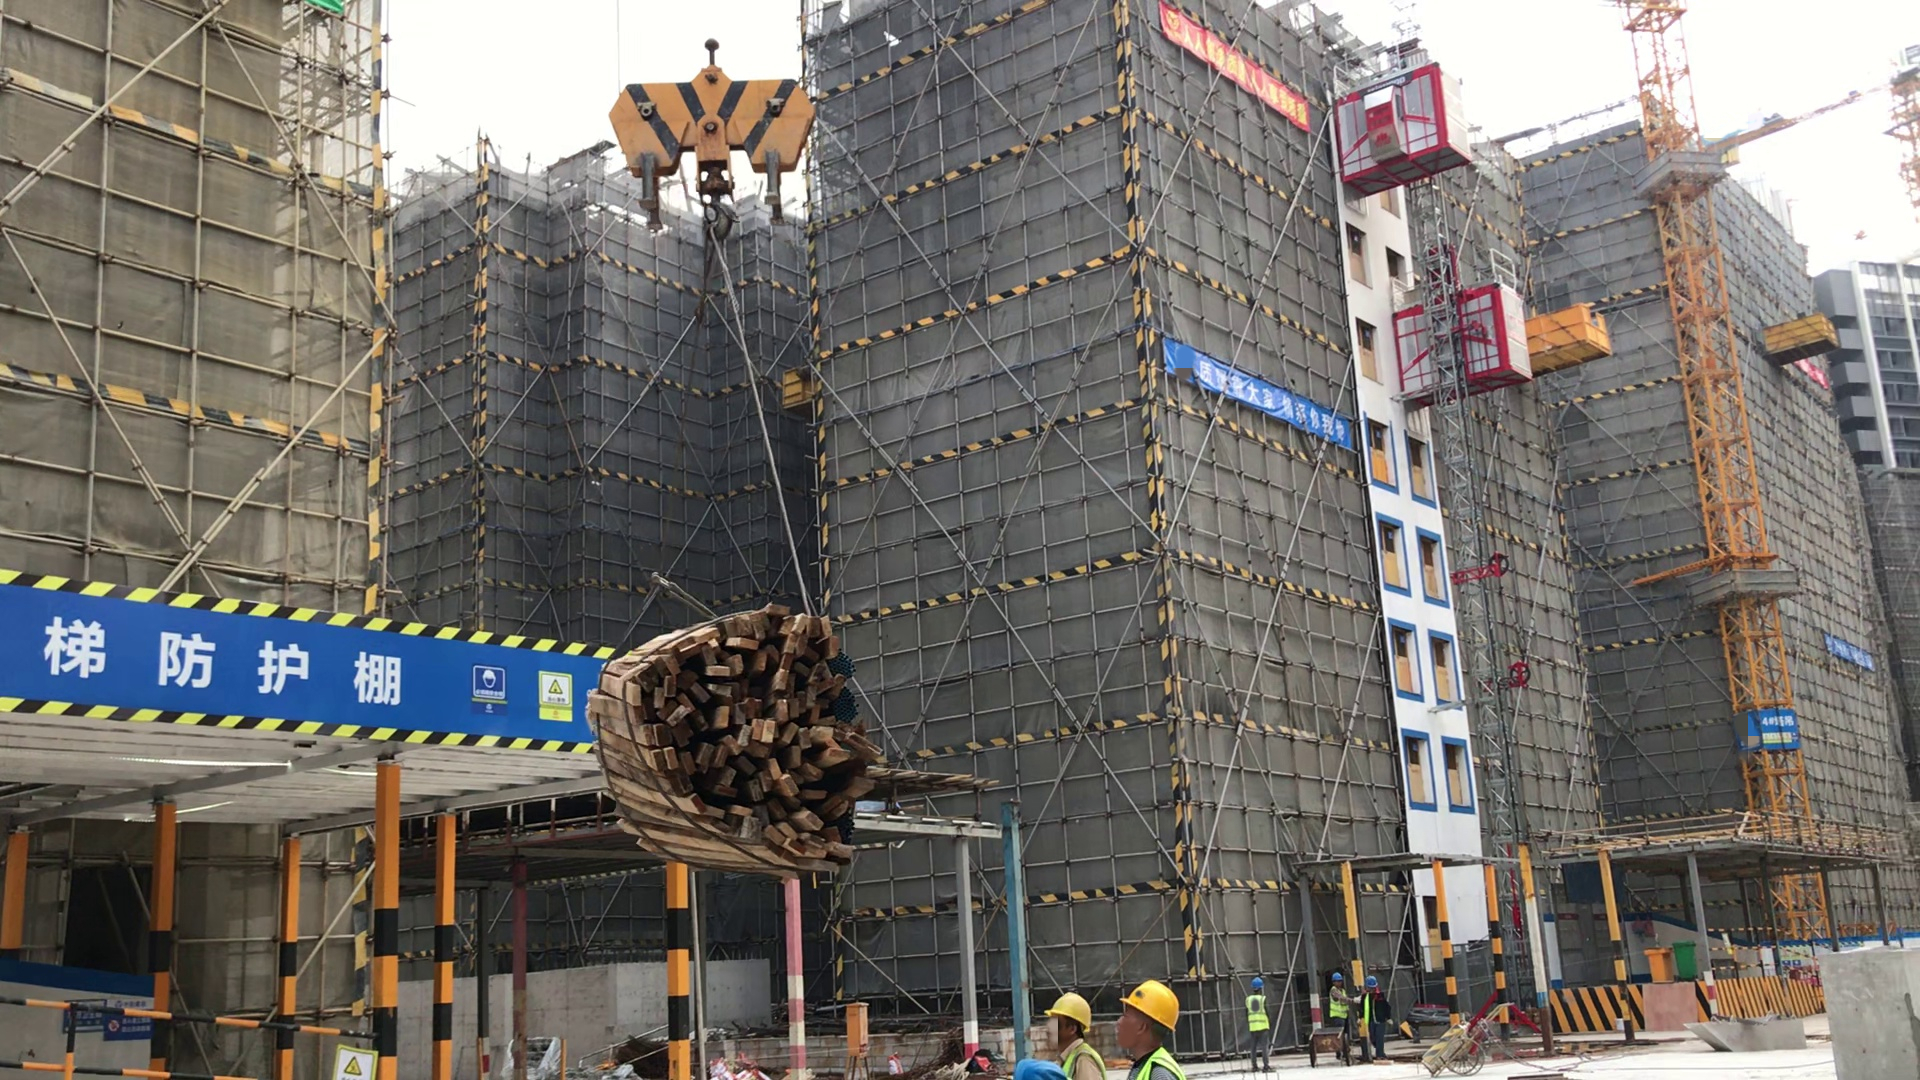ebox: (830, 991, 884, 1065)
fence: (1, 962, 394, 1080), (1699, 919, 1845, 981)
handcart: (1411, 995, 1526, 1080), (1299, 1020, 1367, 1062)
helmet: (1114, 973, 1187, 1035), (1040, 984, 1093, 1036), (1239, 973, 1269, 995), (1359, 971, 1382, 994), (1330, 969, 1344, 988)
hook: (585, 26, 842, 300)
hopper: (1675, 1001, 1811, 1073)
person: (1106, 966, 1191, 1080), (1029, 974, 1108, 1080), (1229, 972, 1288, 1077), (1352, 972, 1402, 1064), (1320, 962, 1361, 1072)
slogan: (2, 555, 621, 811), (1153, 323, 1360, 465), (1157, 1, 1318, 139), (1730, 695, 1813, 774), (61, 991, 153, 1047), (1811, 626, 1891, 687), (1790, 345, 1844, 395), (321, 1038, 382, 1080), (1717, 935, 1737, 956)
vest: (1120, 1047, 1187, 1080), (1240, 991, 1277, 1040), (1323, 985, 1352, 1027), (1056, 1043, 1089, 1080), (1362, 992, 1377, 1026)
wood: (581, 599, 919, 899)
